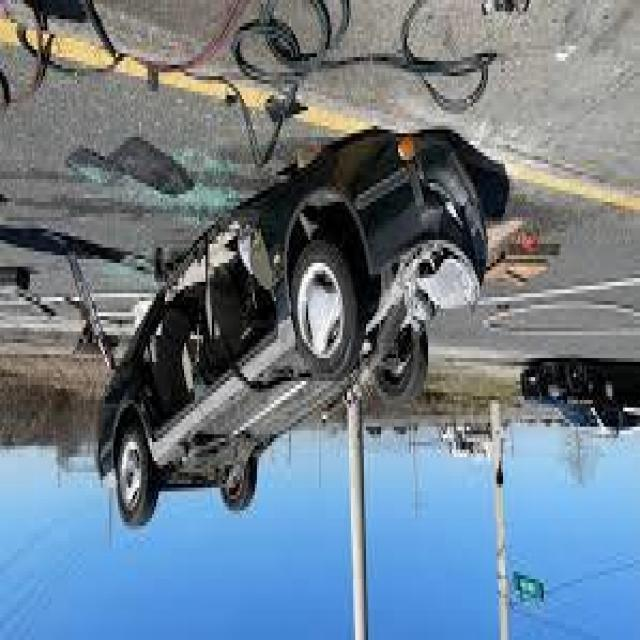severe: (92, 130, 492, 544)
